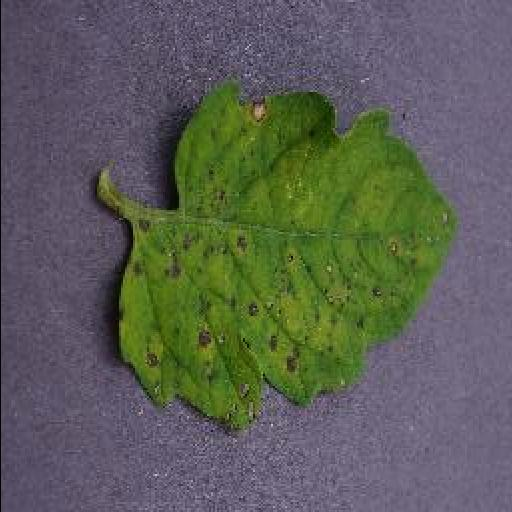disease_tomato: (114, 84, 456, 436)
